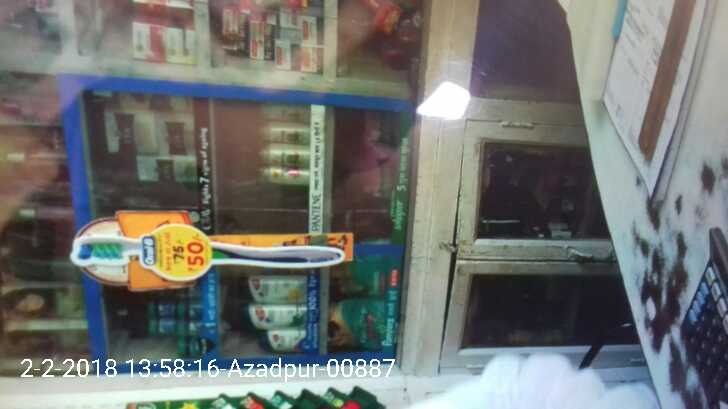vicks: (146, 287, 202, 361)
